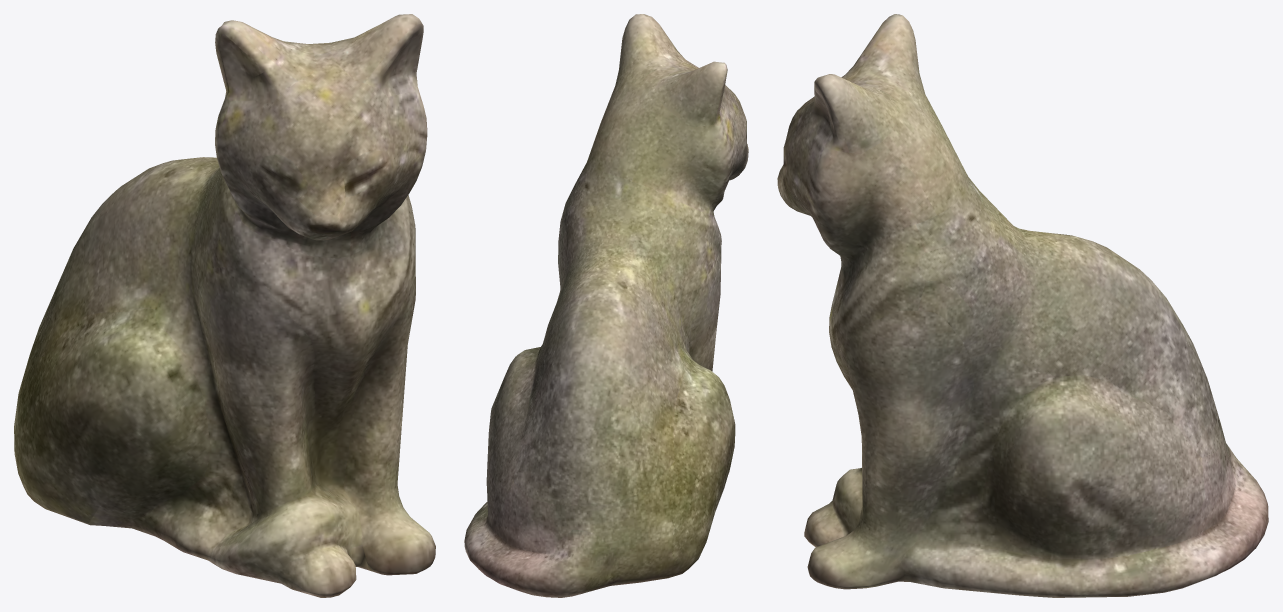
Rendered from concrete_cat_statue.glb.
The picture shows the model from 3 angles, left to right: view 1: azimuth 30°, elevation 25°; view 2: azimuth 150°, elevation 25°; view 3: azimuth 270°, elevation 25°; orthographic projection. The views are drawn at different scales.
Visible parts, largest first — view 1: concrete_cat_statue; view 2: concrete_cat_statue; view 3: concrete_cat_statue.
Boxes of the visible parts, x1,y1,x2,y2 form: concrete_cat_statue: [14, 14, 435, 597]; concrete_cat_statue: [464, 14, 748, 597]; concrete_cat_statue: [777, 14, 1268, 597].
Size of the model in its own units: 0.153 by 0.283 by 0.25.
Materials: 1 (1 with a texture image).
